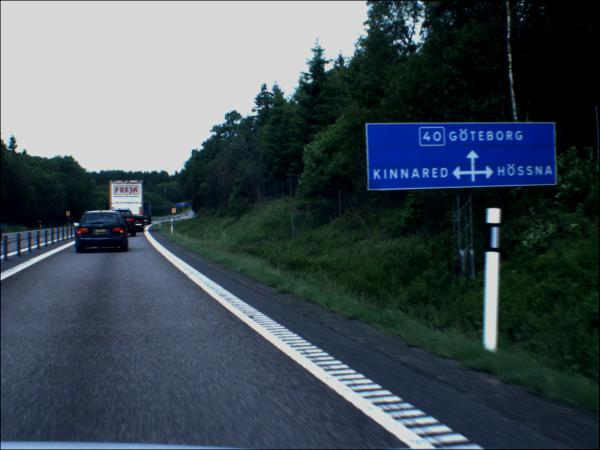70_SIGN: (173, 209, 178, 215), (67, 213, 72, 219)
